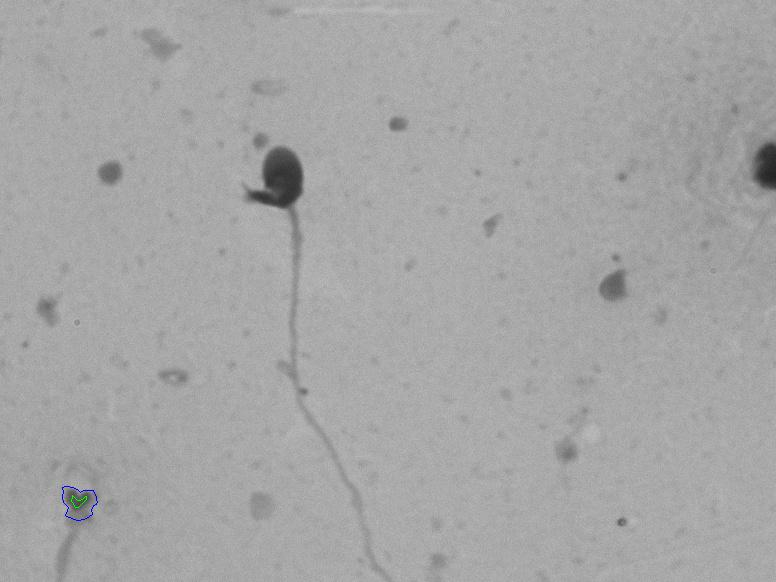Abnormal: (223, 123, 364, 520)
